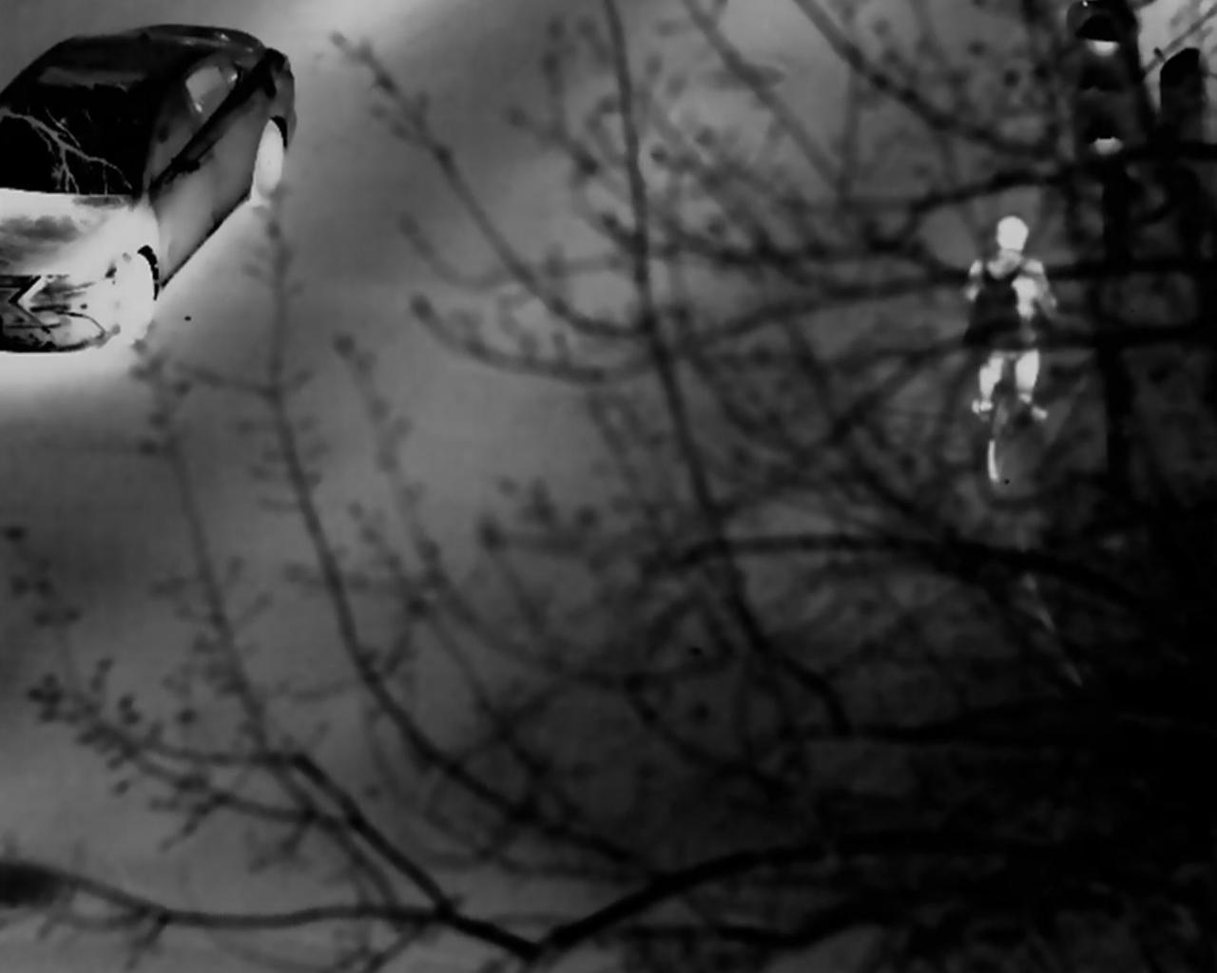person: (971, 202, 1058, 440)
